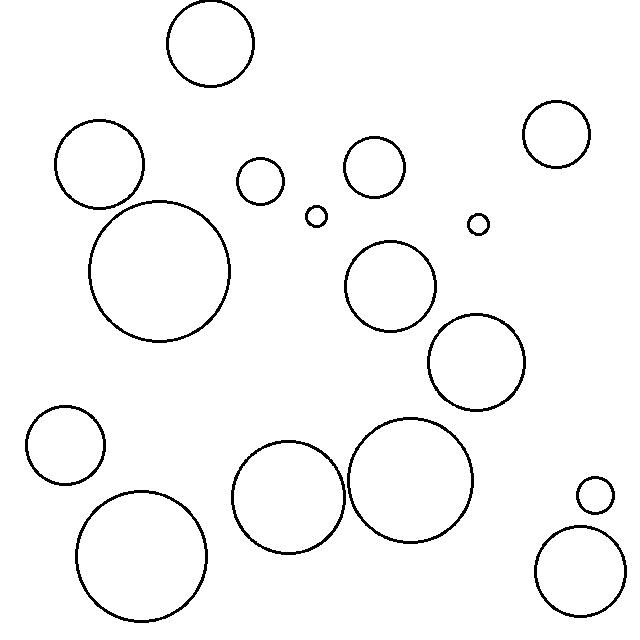circle: (88, 200, 234, 344), (75, 488, 211, 625), (345, 416, 476, 547), (231, 438, 347, 554), (428, 309, 529, 415), (530, 523, 630, 620), (342, 239, 441, 336), (52, 117, 147, 210), (166, 0, 257, 88), (23, 402, 108, 488), (520, 97, 593, 172), (341, 133, 408, 202), (236, 153, 287, 208), (575, 474, 618, 515), (465, 210, 494, 239), (303, 202, 331, 229)
